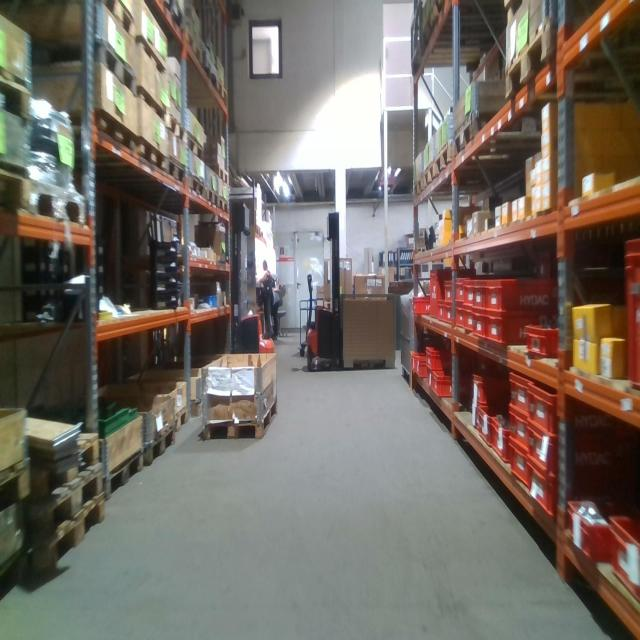pallet: (30, 38, 133, 95), (503, 23, 572, 103), (42, 106, 137, 158), (40, 497, 103, 570), (18, 171, 88, 231), (42, 465, 101, 530), (204, 396, 280, 442), (44, 434, 100, 490), (453, 106, 507, 162), (107, 443, 144, 499), (1, 459, 32, 519), (91, 0, 138, 39), (2, 162, 32, 222), (1, 544, 29, 605), (168, 29, 207, 72), (2, 70, 31, 123), (145, 423, 176, 472), (134, 38, 166, 78), (132, 91, 166, 128), (144, 4, 181, 36), (138, 141, 168, 178), (163, 160, 188, 198), (168, 402, 191, 440), (432, 147, 451, 186), (204, 159, 230, 186), (164, 115, 188, 143), (186, 128, 204, 160), (214, 72, 229, 110), (180, 182, 205, 204), (418, 165, 432, 203), (200, 188, 218, 210), (411, 182, 421, 201), (219, 199, 230, 215)
pallet_truck: (231, 197, 282, 363), (302, 212, 343, 373)
small_load_carrier: (527, 460, 606, 518), (527, 422, 606, 479), (528, 381, 605, 428), (567, 501, 616, 558), (486, 280, 558, 317), (485, 314, 557, 349), (431, 269, 476, 321), (626, 237, 640, 395), (609, 520, 640, 577), (475, 407, 509, 446), (508, 373, 536, 420), (473, 371, 508, 407), (525, 321, 559, 357), (509, 412, 533, 456), (510, 442, 532, 486), (426, 348, 465, 372), (433, 373, 469, 397), (492, 421, 508, 461), (473, 280, 486, 313), (473, 311, 486, 341), (455, 276, 465, 306), (413, 297, 430, 314), (464, 282, 474, 308), (412, 354, 426, 372), (464, 306, 473, 332), (455, 304, 464, 328), (444, 279, 453, 303), (417, 361, 428, 378), (472, 405, 479, 430), (444, 304, 452, 324), (438, 300, 444, 321)
stillage: (342, 288, 398, 370), (398, 295, 412, 387)
